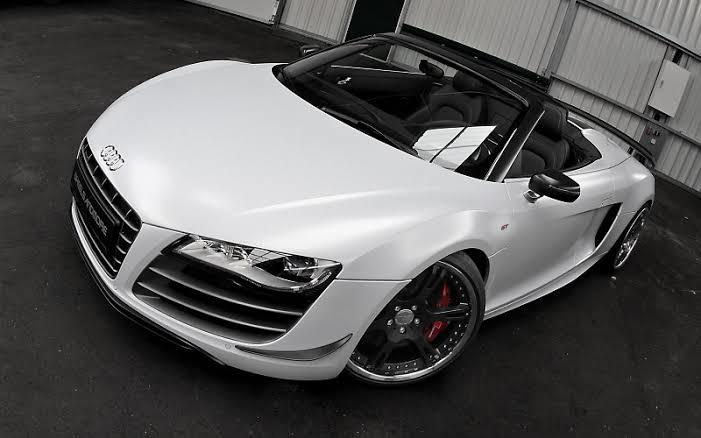audi: (59, 33, 663, 393)
